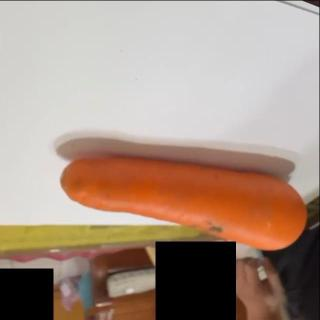carrot: (59, 154, 309, 252)
